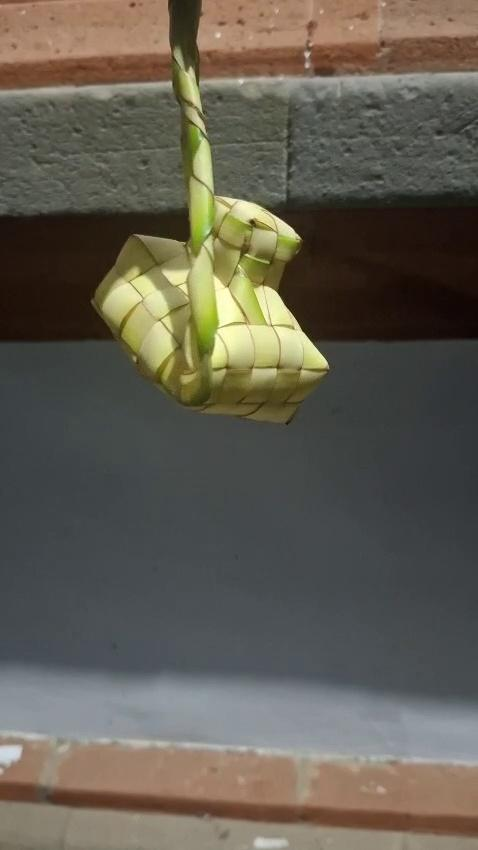Tipat Gong: (90, 0, 344, 431)
